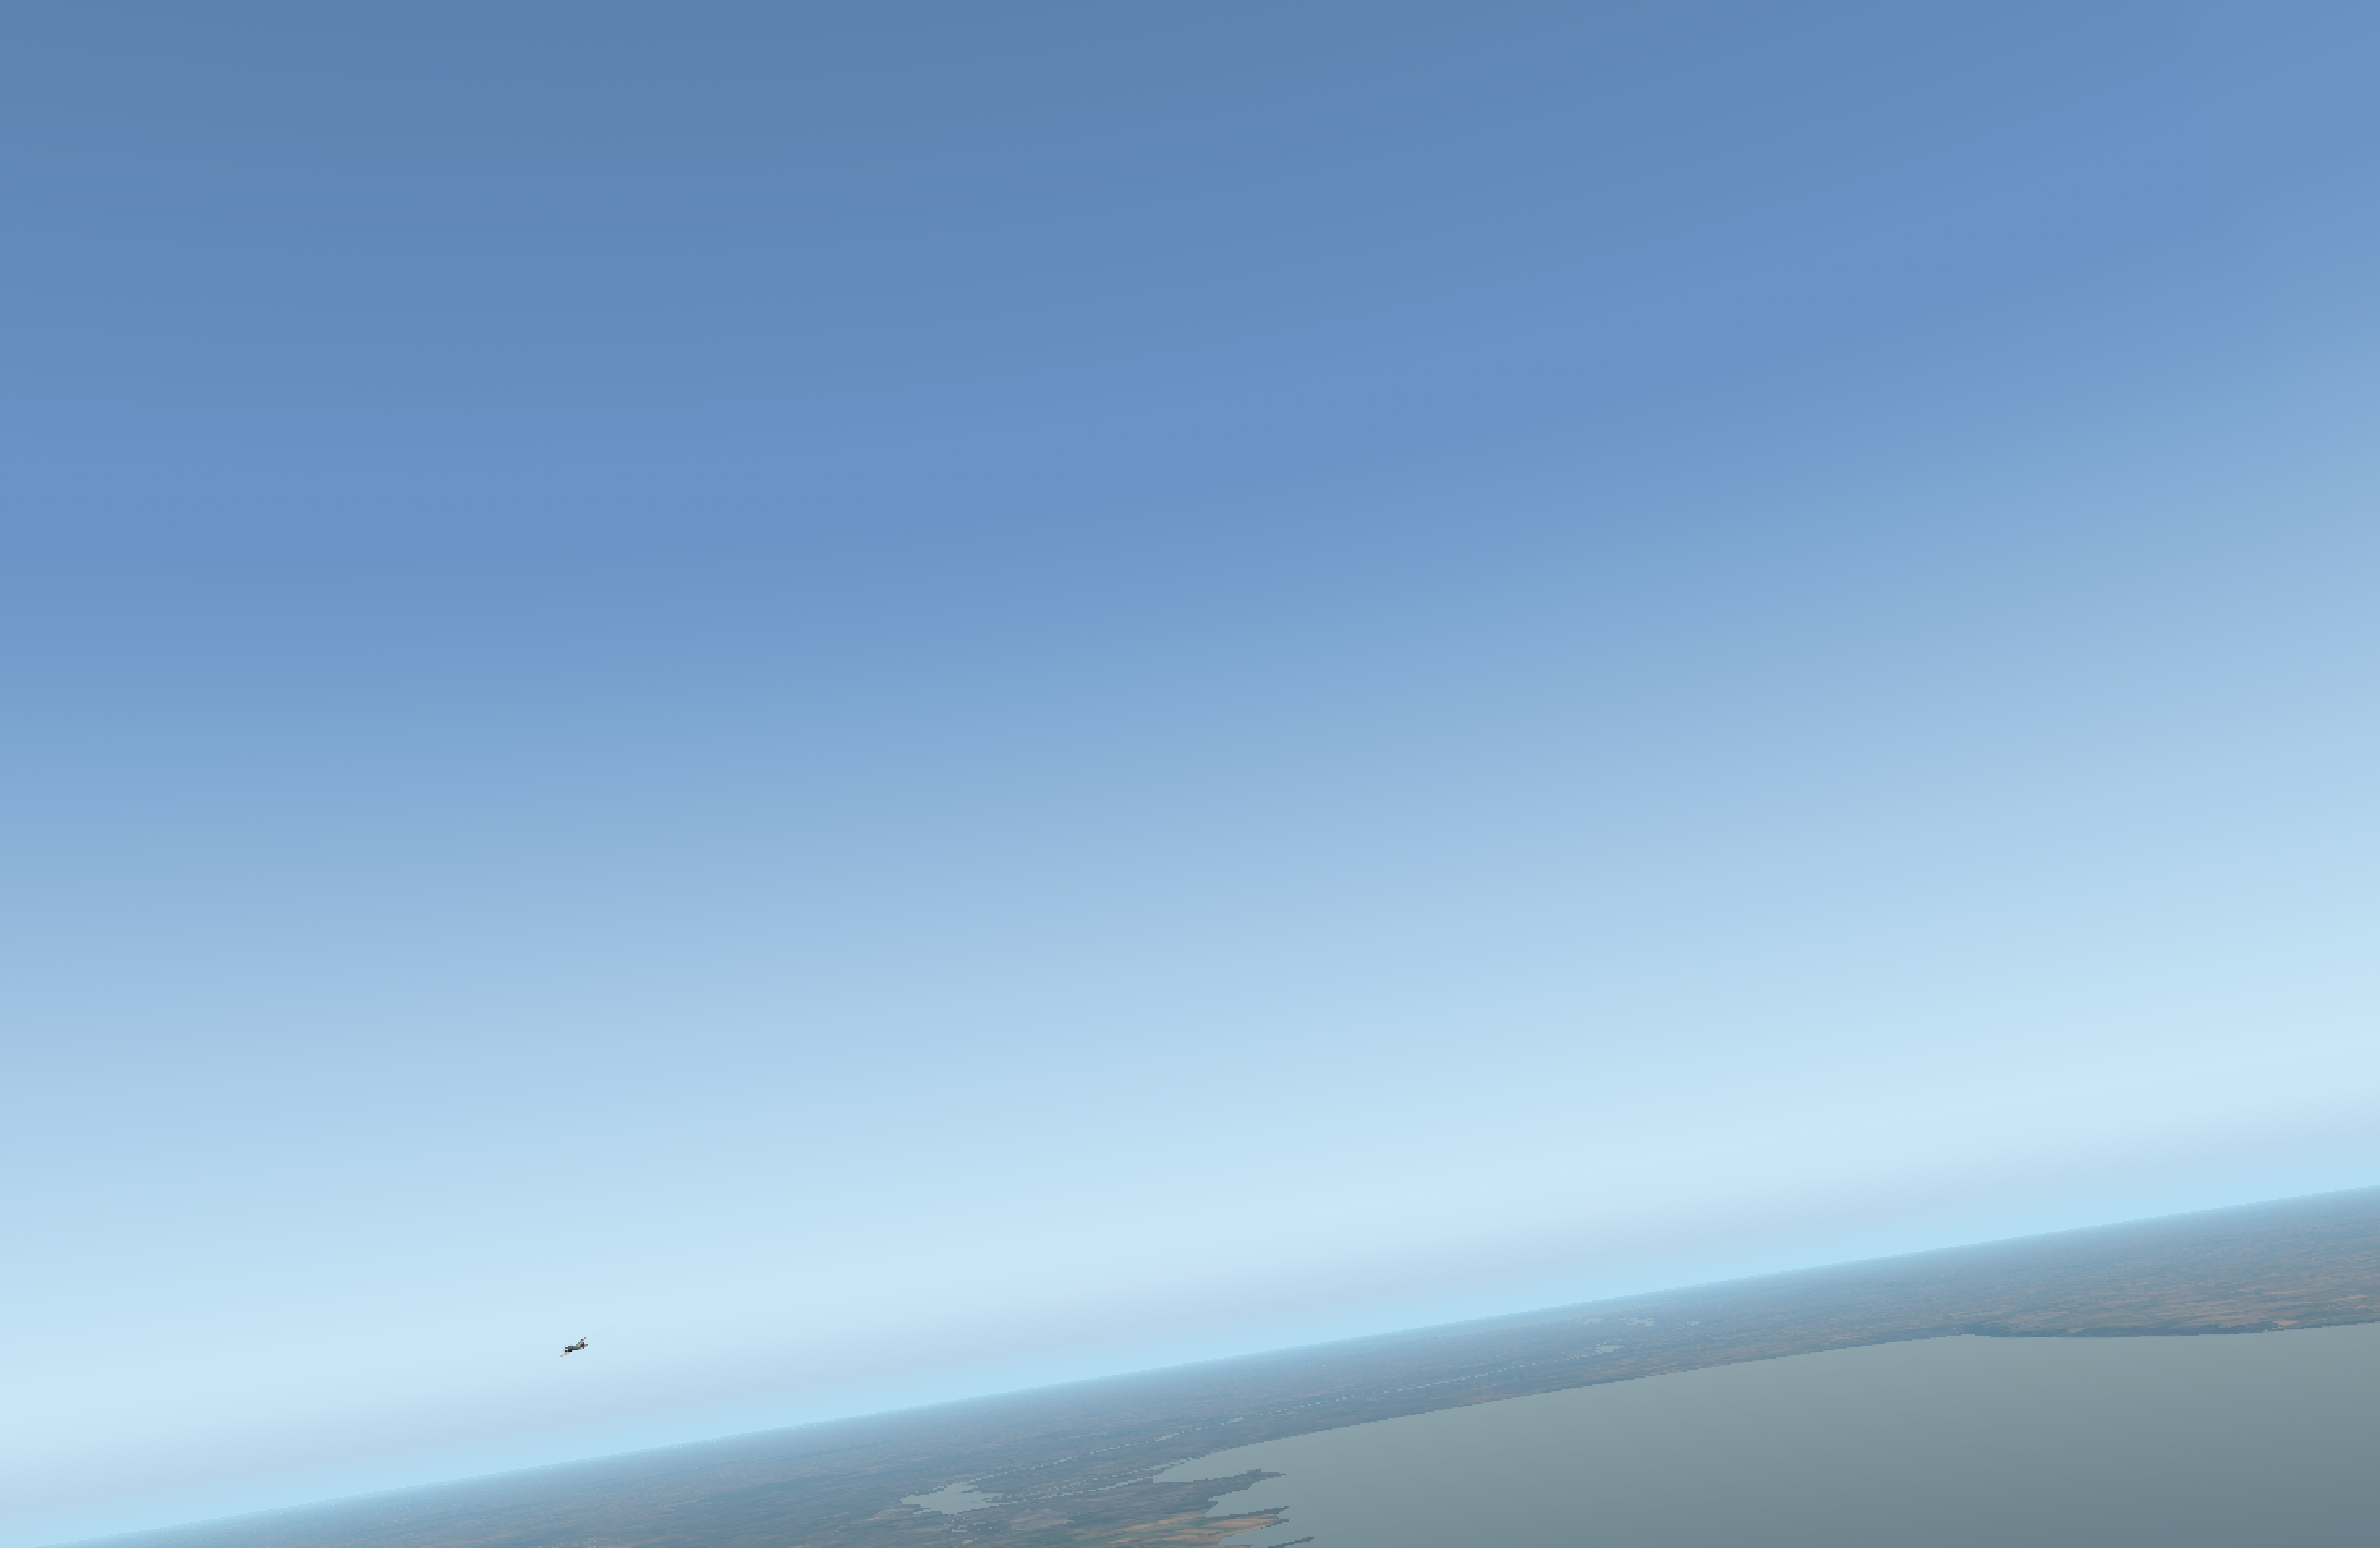aircraft: (553, 1343, 592, 1355)
